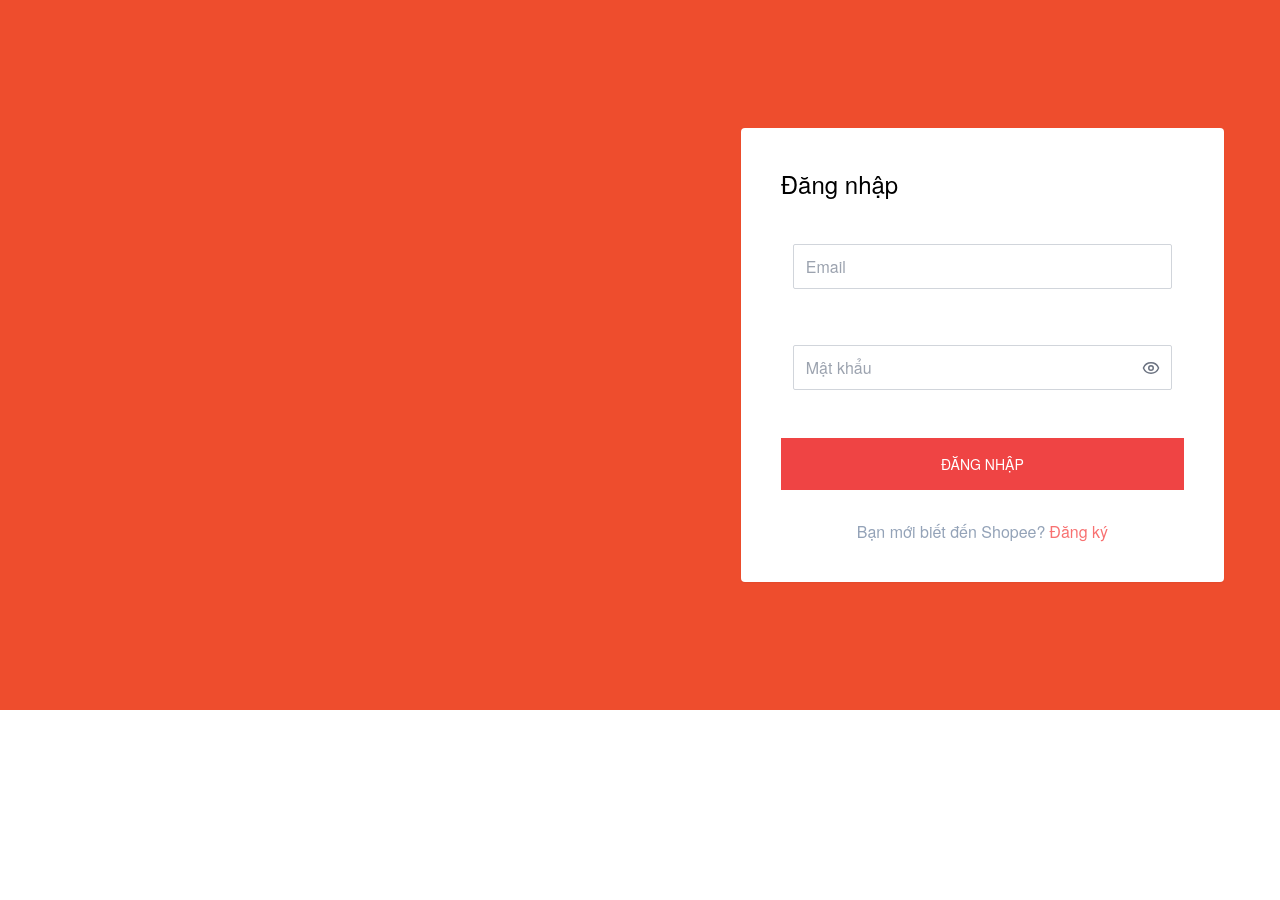
Scenario: Login page › shows validation error for empty email
Click the button "Đăng nhập".
click(982, 464)  # box [781, 438, 1184, 490]
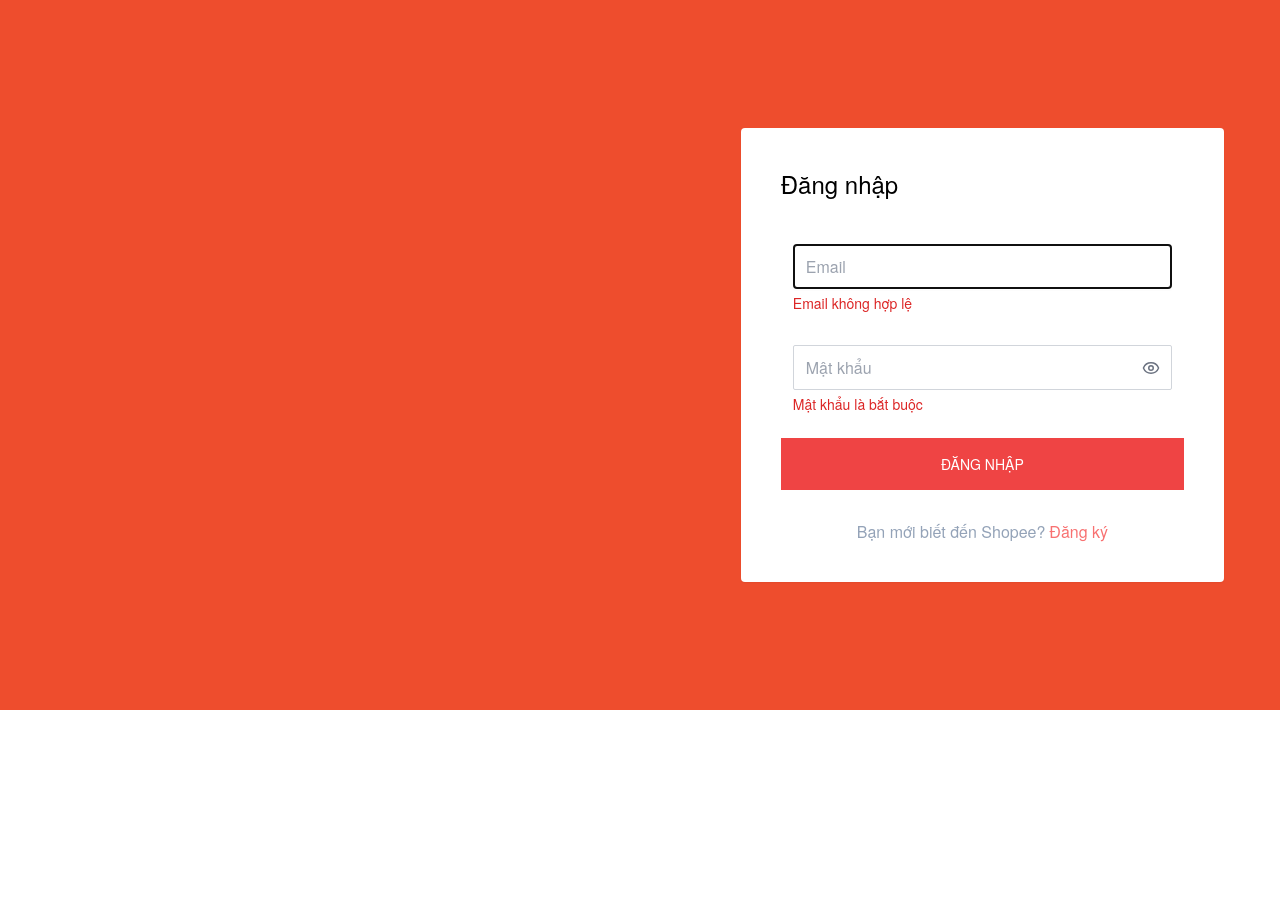
Expected: the text "Email không hợp lệ" is shown, [793, 293, 912, 313]
